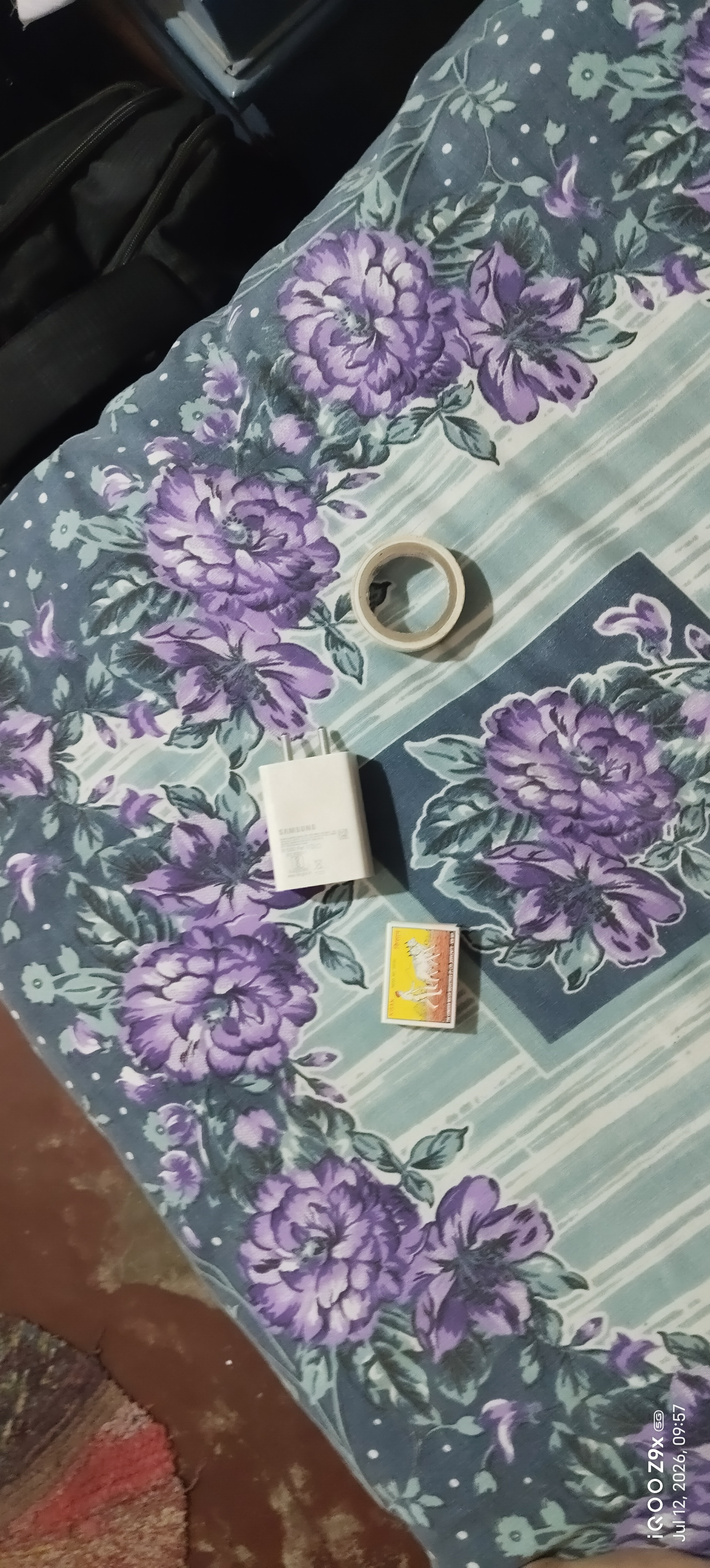charger: (243, 717, 383, 903)
matchbox: (374, 912, 472, 1048)
tape_roll: (345, 526, 479, 663)
